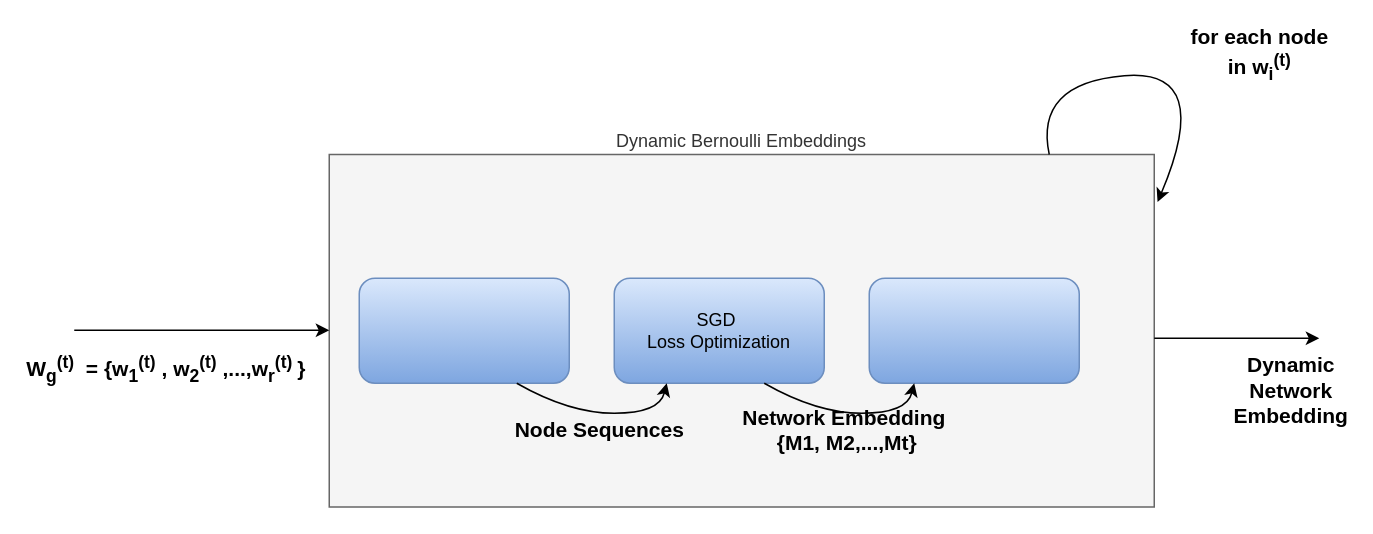
Image size: 1373x534. Some labels were removed from this diagram. The centre of each missing label's shape, as x and y in pixels:
Negative Sampling: the point at 463,330
Vectors Update: the point at 973,330
